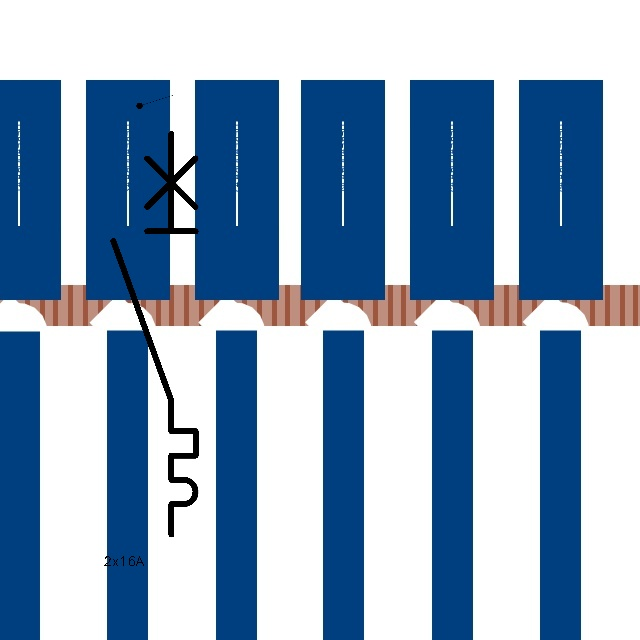interruptor_termomagnetico: (103, 123, 206, 545)
